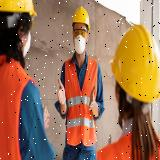Helmet: (110, 21, 160, 102), (0, 1, 38, 21), (72, 2, 91, 36)
Vest: (0, 54, 38, 160), (65, 56, 98, 148), (97, 132, 159, 160)
